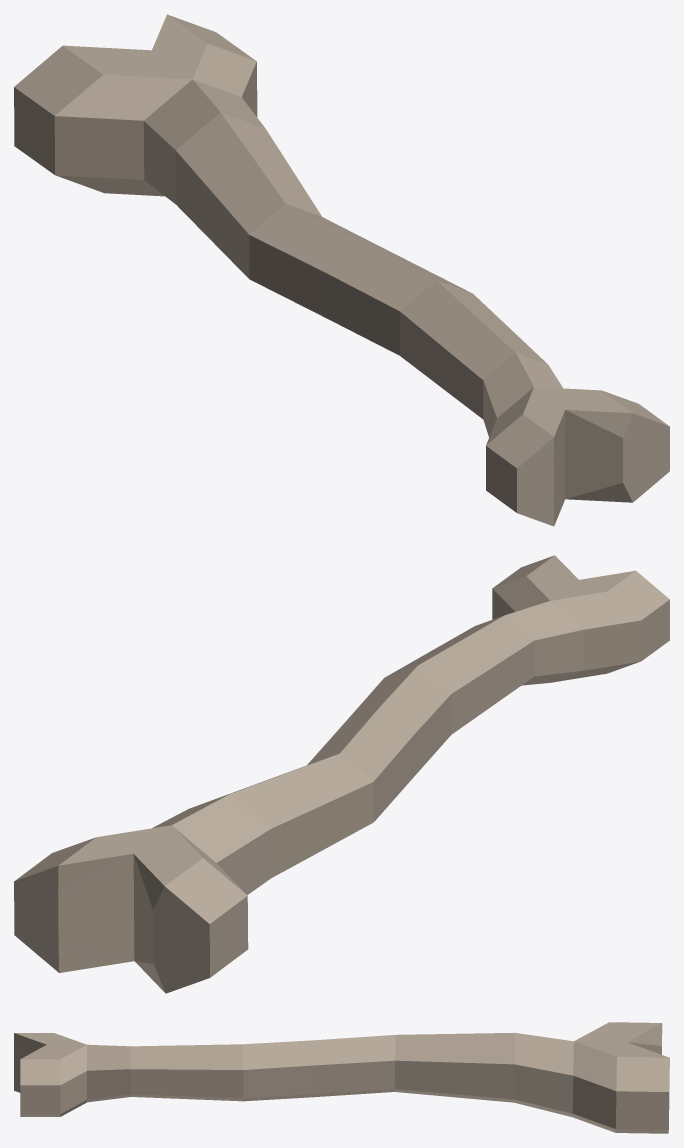
File: Bone2.fbx
3 views of the same model, one above another, from view 1: azimuth 30°, elevation 25°; view 2: azimuth 150°, elevation 25°; view 3: azimuth 270°, elevation 25° (orthographic). The views are drawn at different scales.
Visible parts, largest first — view 1: Bone2; view 2: Bone2; view 3: Bone2.
Part boxes in pixels (x1,y1,x2,y2): Bone2: (14,14,669,526); Bone2: (14,555,669,993); Bone2: (14,1022,669,1133).
Bounding box in the file's own units: 0.2973 × 0.1693 × 1.26.
